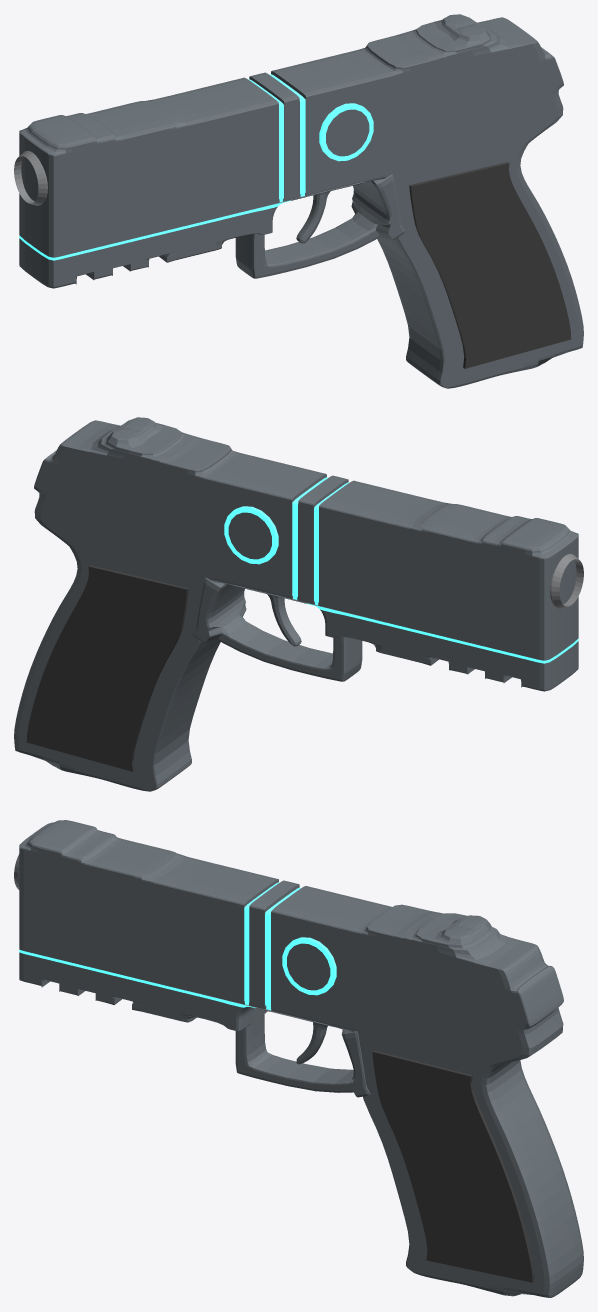
Rendered from LaserGun.fbx.
The picture shows the model from 3 angles, top to bottom: view 1: azimuth 30°, elevation 25°; view 2: azimuth 150°, elevation 25°; view 3: azimuth 330°, elevation 25°; orthographic projection.
Parts seen in each view (by area): view 1: LaserGun; view 2: LaserGun; view 3: LaserGun.
Part boxes in pixels (<box>): LaserGun: <box>14,14,583,388</box>; LaserGun: <box>14,417,583,791</box>; LaserGun: <box>14,820,583,1297</box>.
Size of the model in its own units: 430 by 263 by 53.52.
